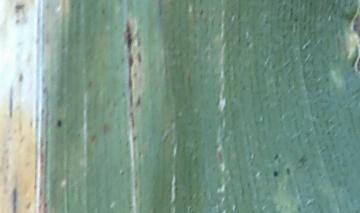tarspot: (52, 118, 66, 129), (269, 168, 281, 179)
